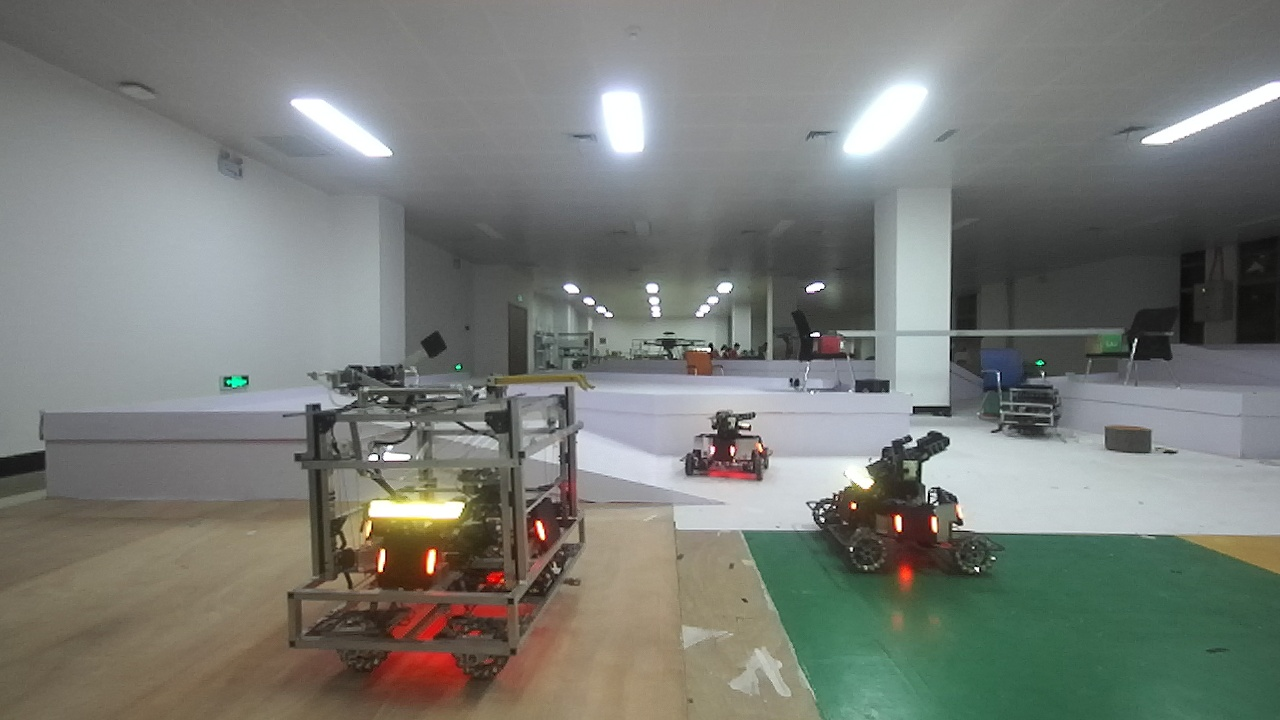car: (281, 370, 600, 695), (804, 420, 998, 581), (682, 402, 774, 495)
